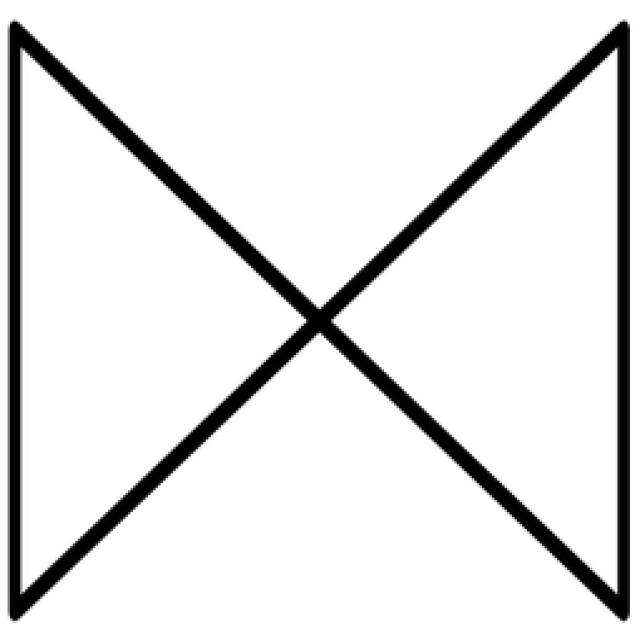Gate valve: (11, 24, 624, 613)
